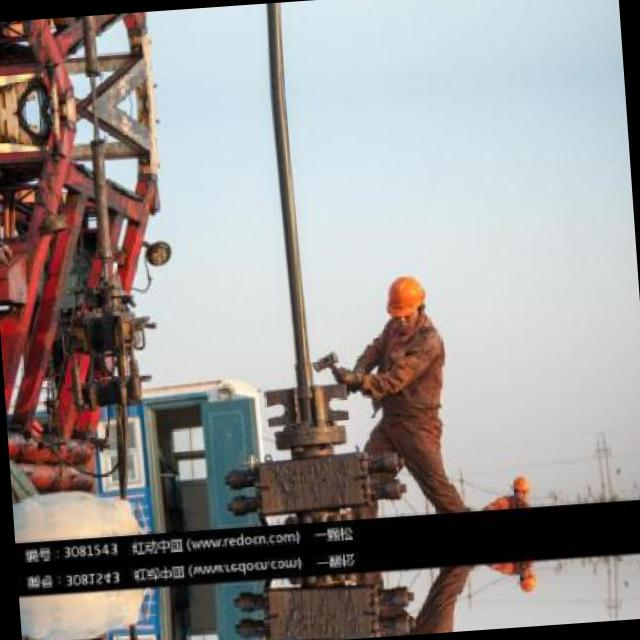helmet: (380, 266, 430, 334), (509, 468, 530, 500), (516, 566, 537, 598)
